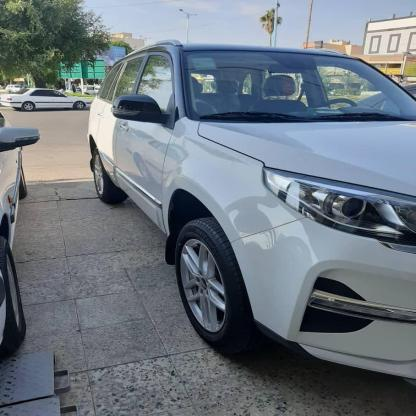Car: (77, 4, 416, 369), (0, 71, 52, 397), (0, 77, 102, 115)
